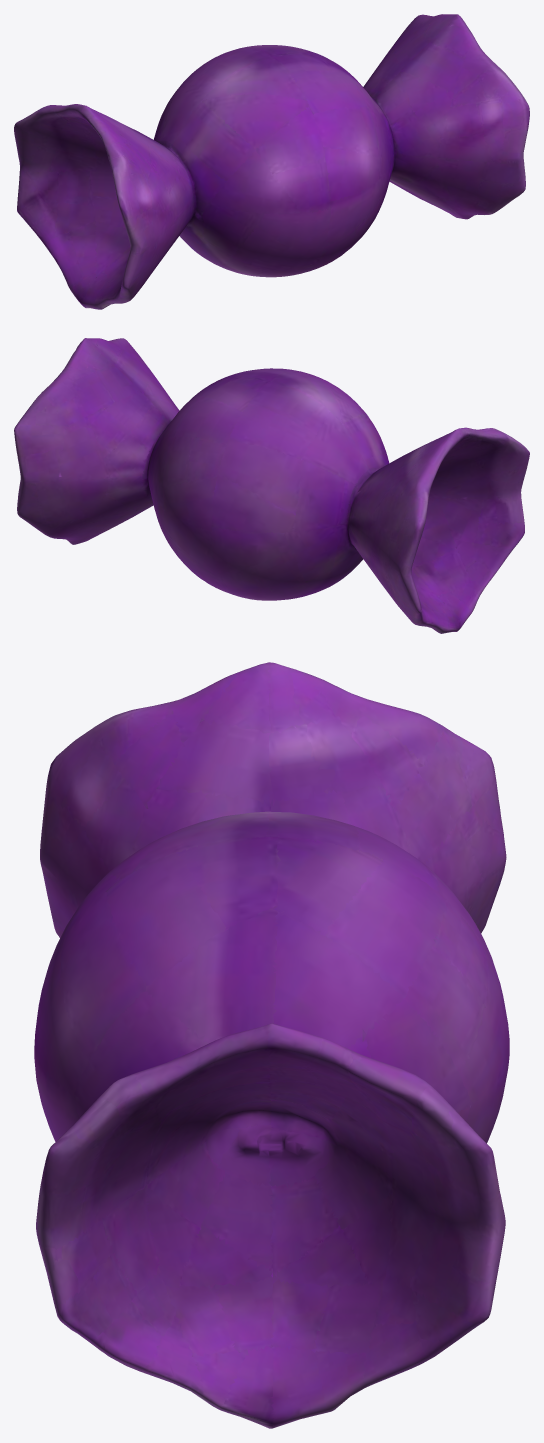
3 views of the same model, one above another, from view 1: azimuth 30°, elevation 25°; view 2: azimuth 150°, elevation 25°; view 3: azimuth 270°, elevation 25° (orthographic). The views are drawn at different scales.
Bounding box in the file's own units: 2 × 0.9715 × 1.01.
Materials: 1 (1 with a texture image).
